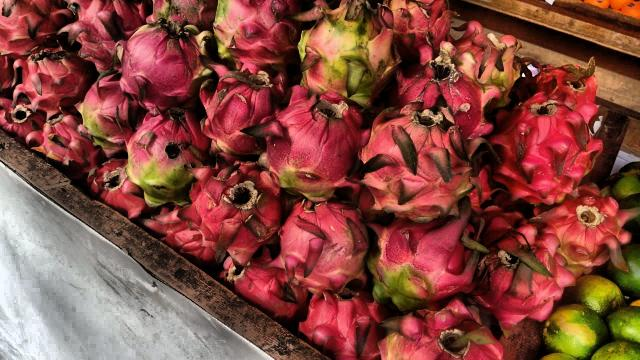buah-naga-belum-matang: (257, 76, 359, 196), (294, 0, 394, 106), (365, 210, 475, 302), (122, 106, 200, 206), (376, 304, 506, 360), (208, 0, 302, 72), (452, 20, 526, 104), (74, 74, 126, 152), (150, 1, 214, 31)
buah-naga-matang: (354, 96, 472, 218), (476, 201, 582, 327), (481, 92, 595, 198), (186, 159, 288, 255), (273, 200, 371, 294), (538, 178, 630, 274), (116, 18, 208, 105), (396, 47, 488, 132), (292, 284, 386, 358), (199, 74, 281, 156), (214, 252, 306, 322), (516, 56, 606, 122), (15, 47, 104, 109), (63, 0, 129, 70), (0, 0, 72, 52), (154, 210, 216, 268), (32, 115, 92, 174), (93, 161, 147, 211), (0, 90, 46, 138)
